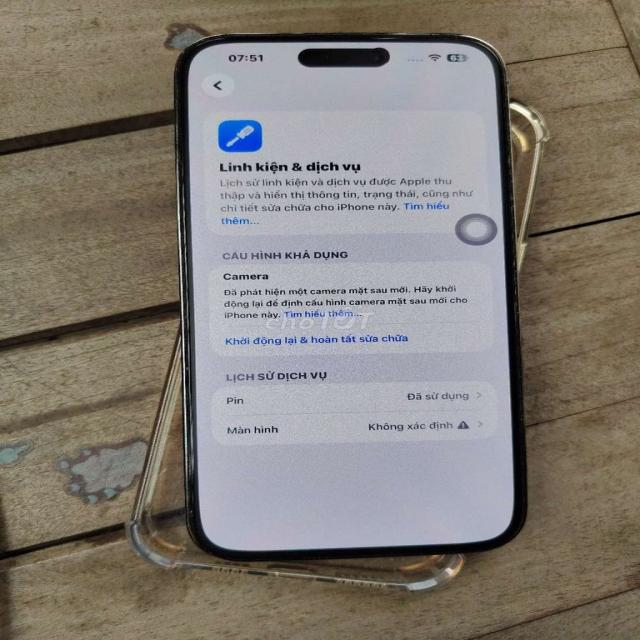gen_14: (158, 17, 528, 566)
